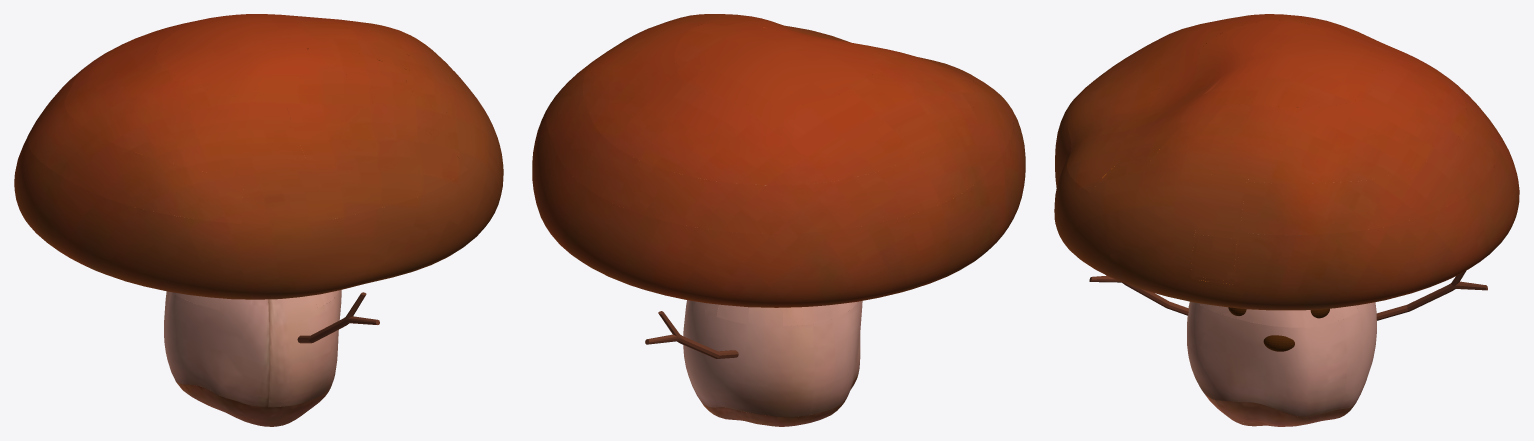
Rendered from mushroom_join.glb.
The picture shows the model from 3 angles, left to right: view 1: azimuth 30°, elevation 25°; view 2: azimuth 150°, elevation 25°; view 3: azimuth 270°, elevation 25°; orthographic projection. The views are drawn at different scales.
Parts seen in each view (by area): view 1: Sphere.002; view 2: Sphere.002; view 3: Sphere.002.
Part boxes in pixels (x1,y1,x2,y2): Sphere.002: (14,14,503,426); Sphere.002: (532,14,1025,426); Sphere.002: (1054,14,1519,426).
Bounding box in the file's own units: 12.28 × 10.38 × 11.87.
Materials: 6 (1 with a texture image).
